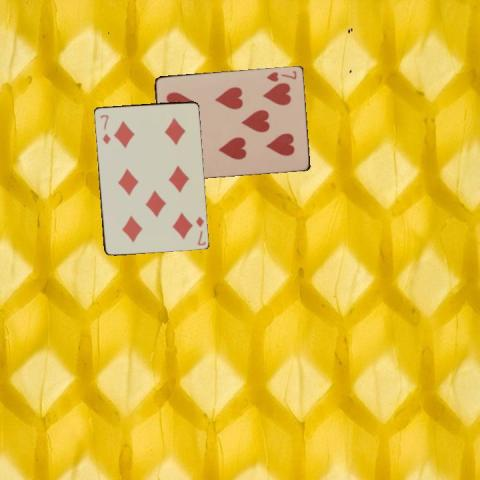7d: (98, 112, 112, 146), (192, 213, 206, 247)
7h: (264, 67, 298, 83)
